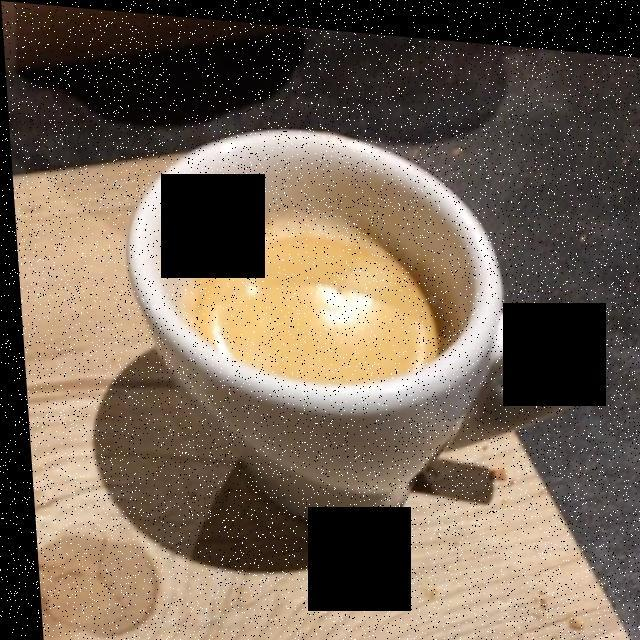risotto: (176, 205, 434, 374)
